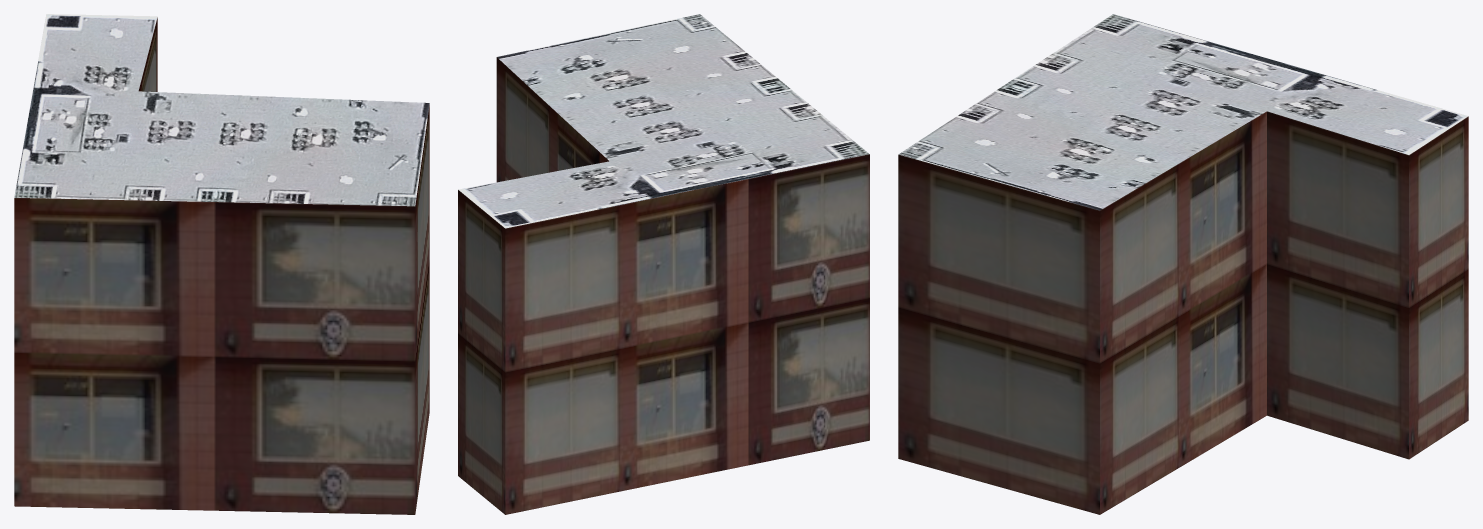
Rendered from ResTex__4222.fbx.
The picture shows the model from 3 angles, left to right: view 1: azimuth 30°, elevation 25°; view 2: azimuth 150°, elevation 25°; view 3: azimuth 270°, elevation 25°; orthographic projection. The views are drawn at different scales.
Visible parts, largest first — view 1: CityEngineMaterial_13_m, CityEngineMaterial_8_m; view 2: CityEngineMaterial_13_m, CityEngineMaterial_8_m; view 3: CityEngineMaterial_13_m, CityEngineMaterial_8_m.
Part boxes in pixels (box(x1,y1,x2,y2)): CityEngineMaterial_13_m: box(14, 17, 429, 514); CityEngineMaterial_8_m: box(14, 14, 429, 206); CityEngineMaterial_13_m: box(458, 57, 869, 514); CityEngineMaterial_8_m: box(458, 14, 869, 228); CityEngineMaterial_13_m: box(898, 111, 1468, 514); CityEngineMaterial_8_m: box(898, 14, 1468, 210).
Bounding box in the file's own units: 8.32 × 6 × 10.19.
Materials: 2 (2 with a texture image).
